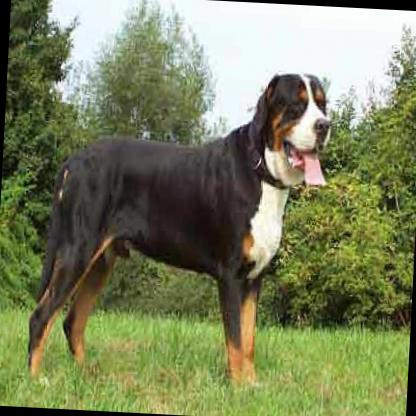EntleBucher: (22, 55, 338, 404)
